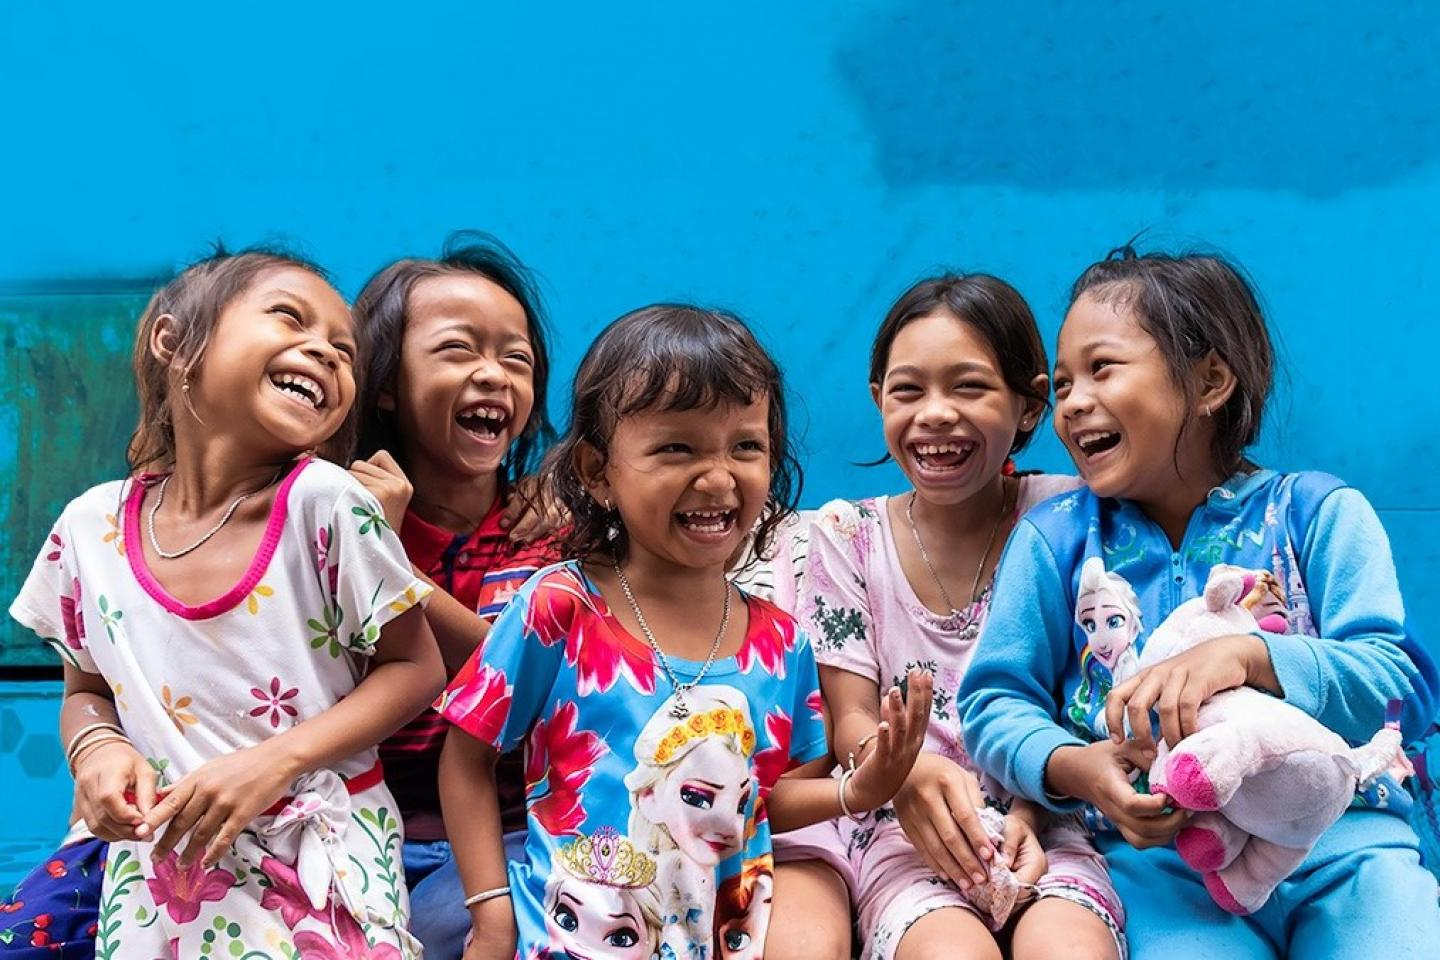human: (400, 280, 932, 960), (954, 235, 1440, 960), (27, 241, 435, 960), (795, 268, 1140, 960), (334, 240, 558, 947)
